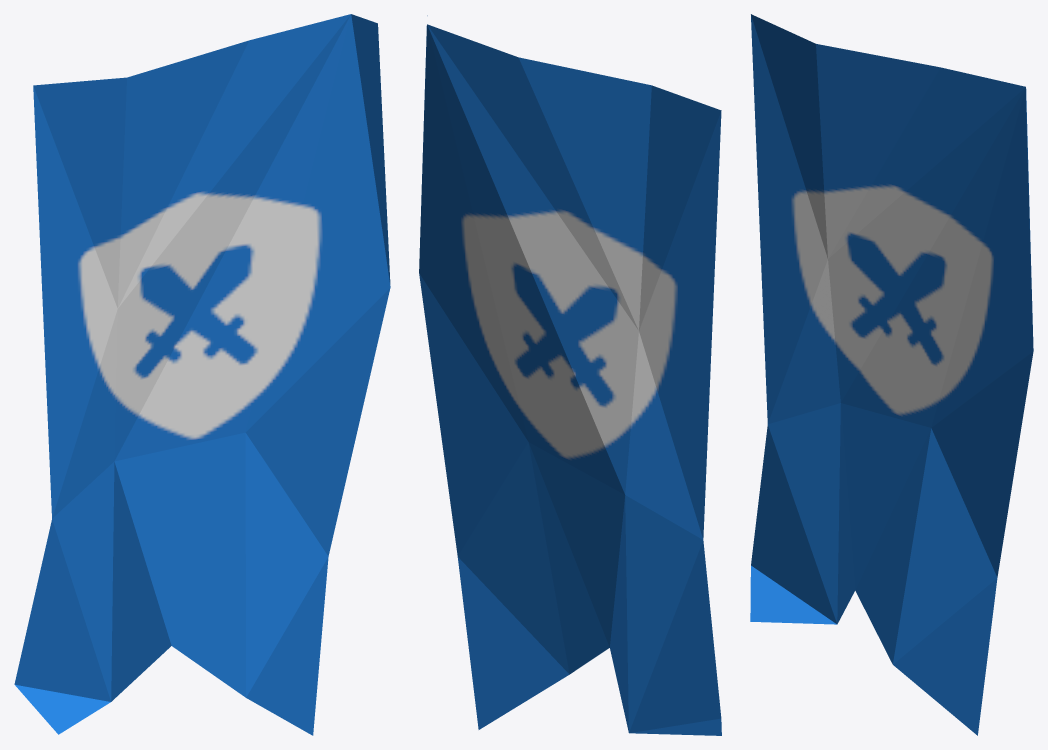
The model's file is RG-Dungeon_Flag-02.fbx.
3 renders of one model, left to right at view 1: azimuth 30°, elevation 25°; view 2: azimuth 150°, elevation 25°; view 3: azimuth 330°, elevation 25°, orthographic. The views are drawn at different scales.
Visible parts, largest first — view 1: RG-Dungeon_Flag-02; view 2: RG-Dungeon_Flag-02; view 3: RG-Dungeon_Flag-02.
Boxes of the visible parts, x1,y1,x2,y2 form: RG-Dungeon_Flag-02: (14, 14, 390, 735); RG-Dungeon_Flag-02: (419, 15, 721, 735); RG-Dungeon_Flag-02: (750, 14, 1033, 735).
Bounding box in the file's own units: 3.46 × 6.85 × 0.6912.
